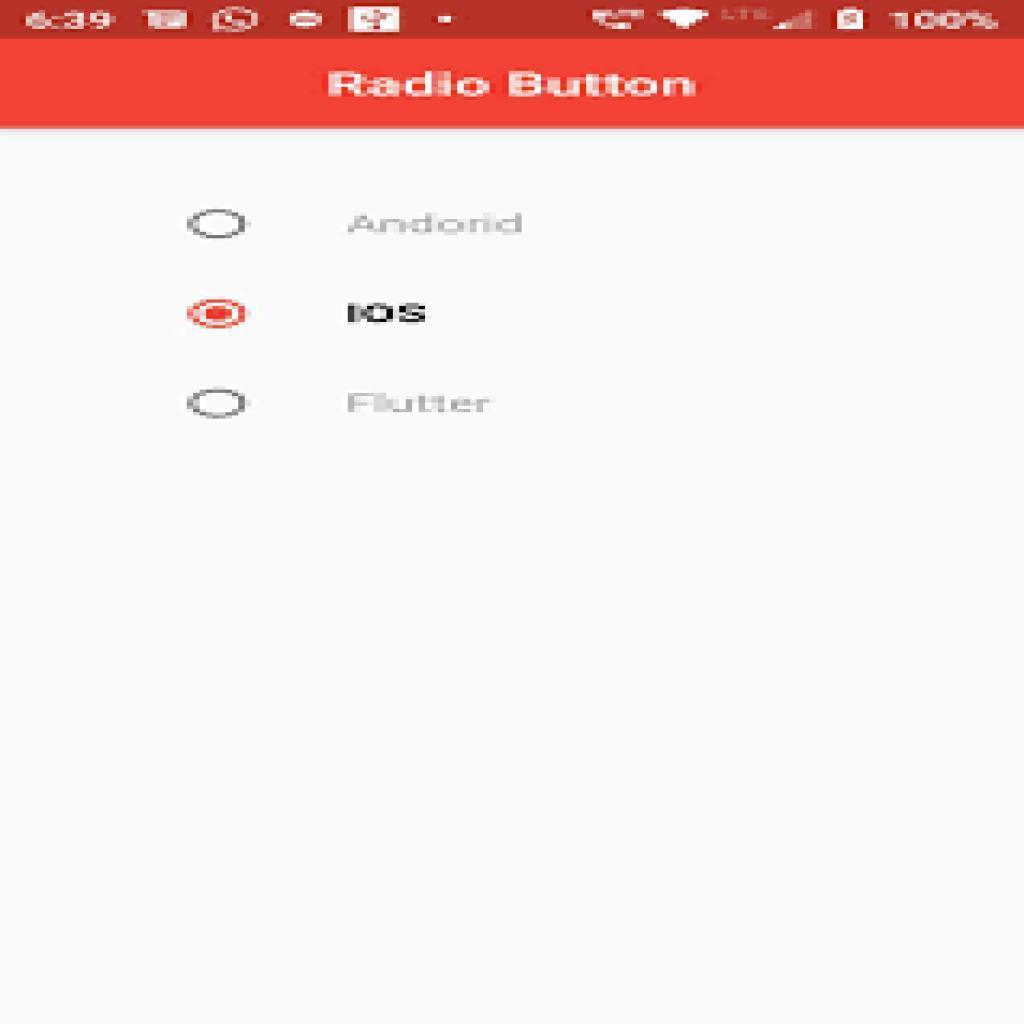radio: (183, 386, 253, 422), (185, 209, 251, 240), (188, 298, 251, 328)
